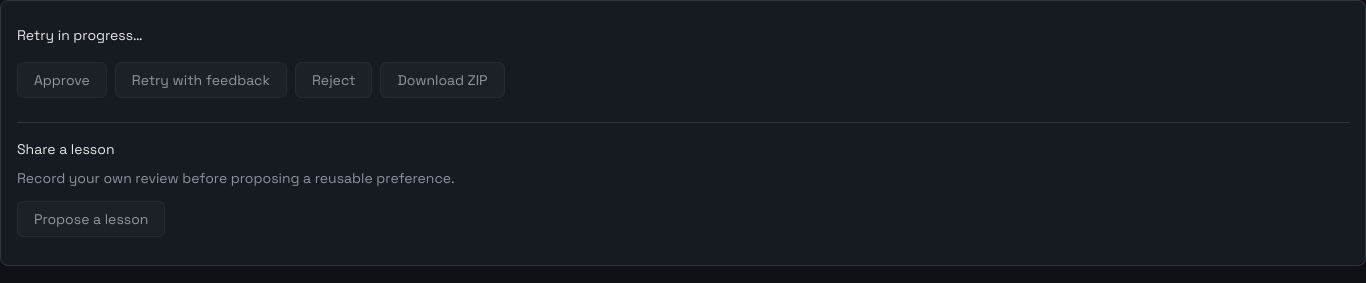
it: FR-UI-07 retained retry lock explains unavailable Approve
Hover over the element "Approve".
mouse_move(62, 80)  # box [17,62,107,98]
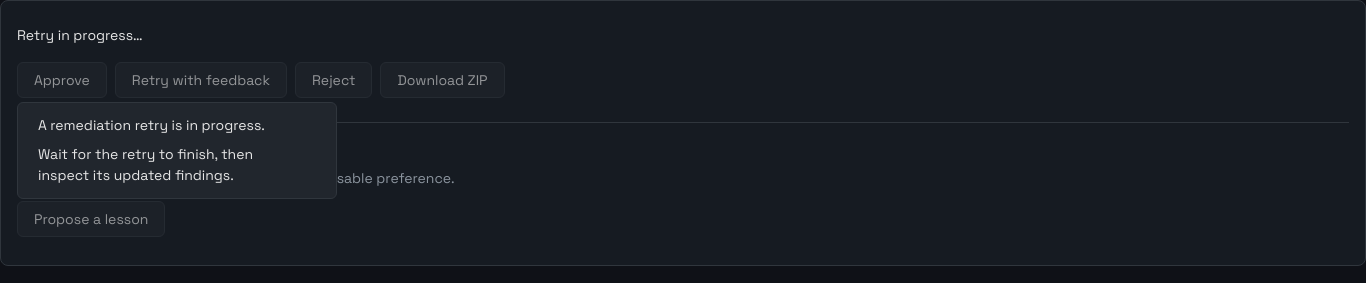
Expected: the element with class "action-gate-help" is shown, [17,102,337,199]
Move the pointer off the element "Approve", box [17,62,107,98]
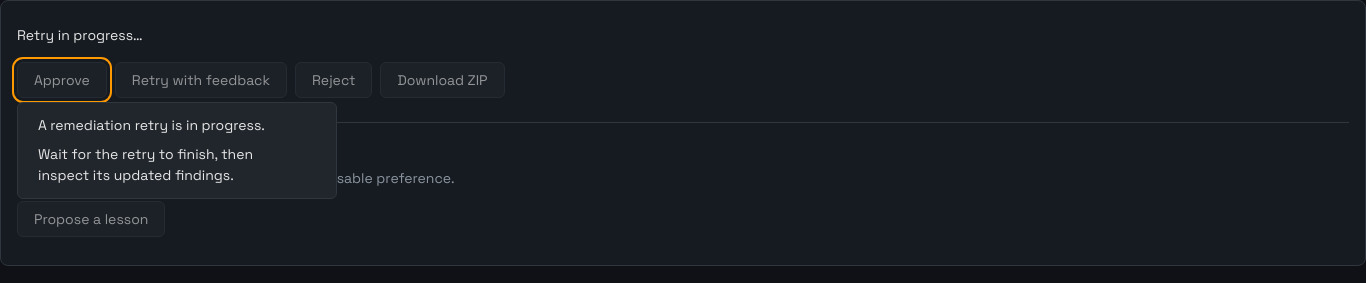
Expected: the element with class "action-gate-help" is shown, [17,102,337,199]
Press Escape in the element "Approve", box [17,62,107,98]
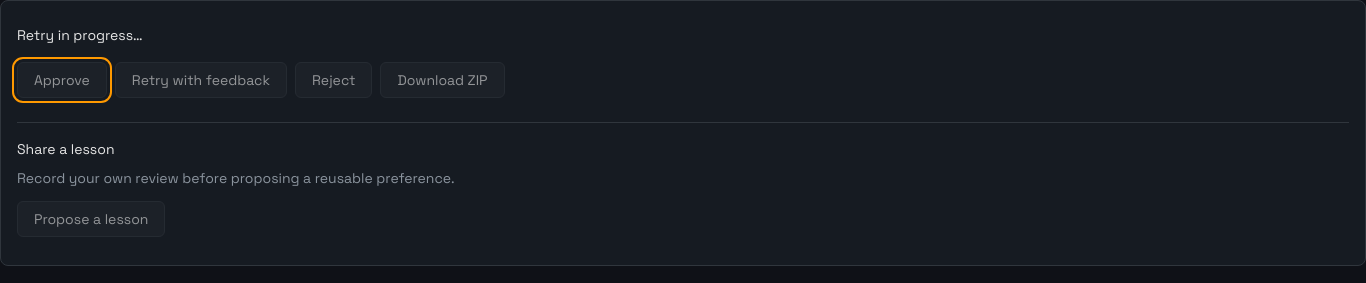
Click the element "Approve".
click(62, 80)  # box [17,62,107,98]
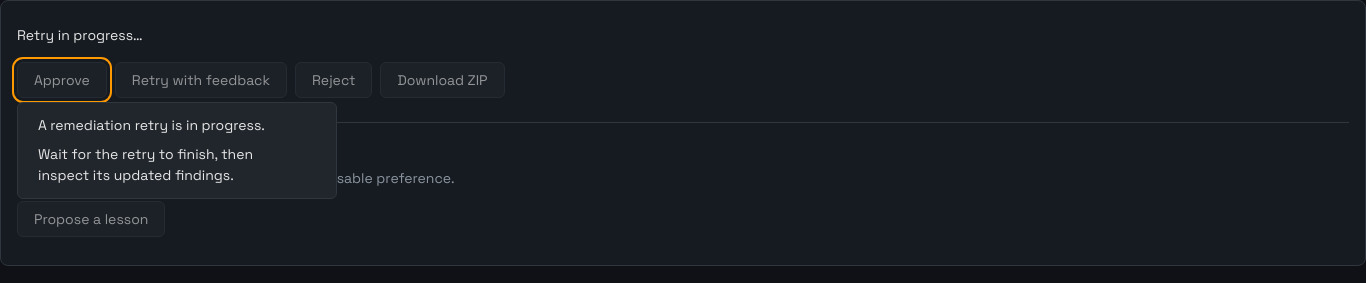
Expected: the element with class "action-gate-help" is shown, [17,102,337,199]
